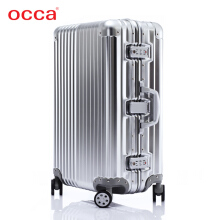luggage: (50, 18, 168, 210)
